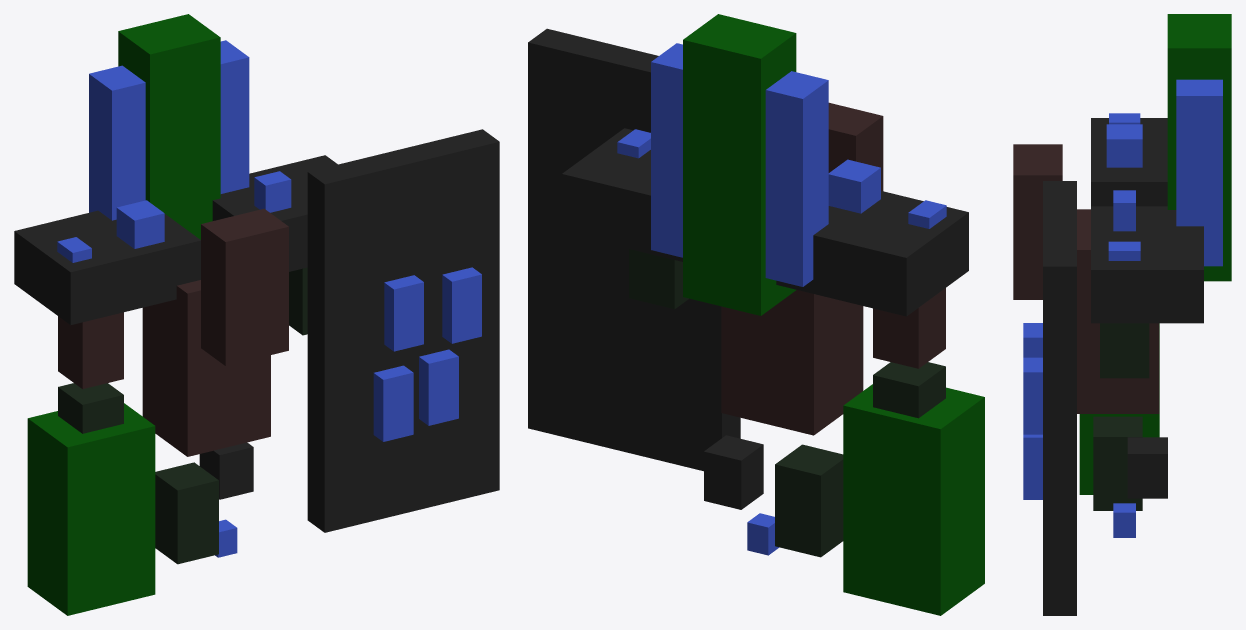
Rendered from Miniboss_V01.FBX.
3 views of the same model, side by side, from view 1: azimuth 30°, elevation 25°; view 2: azimuth 150°, elevation 25°; view 3: azimuth 270°, elevation 25° (orthographic). The views are drawn at different scales.
Parts seen in each view (by area): view 1: Shield, Fist, Backcrystal M, Body, Shoulder R, Head, Backcrystal L, Legrock 02, Backcrystal R, Bicep R, Shoulder L, ShC 02 (+9 smaller); view 2: Shield, Fist, Backcrystal M, Body, Shoulder R, Backcrystal L, Shoulder L, Legrock 02, Backcrystal R, Bicep R, Legrock 01, LowerArm R (+6 smaller); view 3: Shield, Shoulder L, Backcrystal R, Backcrystal M, Body, Head, Shoulder R, Legrock 02, Bicep L, Legrock 01, Fist, SC R02 (+7 smaller).
Part boxes in pixels (x1=…): Shield: x1=307, y1=129, x2=499, y2=532; Fist: x1=27, y1=403, x2=155, y2=615; Backcrystal M: x1=118, y1=14, x2=220, y2=239; Body: x1=142, y1=280, x2=270, y2=456; Shoulder R: x1=14, y1=210, x2=200, y2=324; Head: x1=201, y1=208, x2=288, y2=365; Backcrystal L: x1=89, y1=65, x2=145, y2=220; Legrock 02: x1=155, y1=462, x2=218, y2=564; Backcrystal R: x1=220, y1=40, x2=249, y2=193; Bicep R: x1=58, y1=312, x2=123, y2=389; Shoulder L: x1=212, y1=155, x2=337, y2=271; ShC 02: x1=373, y1=365, x2=413, y2=441; Shield: x1=528, y1=28, x2=740, y2=471; Fist: x1=843, y1=384, x2=984, y2=615; Backcrystal M: x1=683, y1=14, x2=796, y2=315; Body: x1=721, y1=290, x2=863, y2=435; Shoulder R: x1=776, y1=191, x2=968, y2=316; Backcrystal L: x1=765, y1=71, x2=828, y2=286; Shoulder L: x1=562, y1=128, x2=682, y2=261; Legrock 02: x1=775, y1=444, x2=843, y2=557; Backcrystal R: x1=651, y1=43, x2=682, y2=257; Bicep R: x1=873, y1=288, x2=945, y2=368; Legrock 01: x1=704, y1=435, x2=763, y2=509; LowerArm R: x1=873, y1=362, x2=945, y2=418; Shield: x1=1043, y1=181, x2=1076, y2=615; Shoulder L: x1=1091, y1=206, x2=1203, y2=323; Backcrystal R: x1=1176, y1=79, x2=1222, y2=266; Backcrystal M: x1=1167, y1=14, x2=1231, y2=281; Body: x1=1077, y1=209, x2=1159, y2=413; Head: x1=1013, y1=144, x2=1062, y2=299; Shoulder R: x1=1091, y1=118, x2=1167, y2=206; Legrock 02: x1=1093, y1=416, x2=1142, y2=510; Bicep L: x1=1100, y1=323, x2=1149, y2=378; Legrock 01: x1=1127, y1=437, x2=1167, y2=498; Fist: x1=1079, y1=323, x2=1159, y2=494; SC R02: x1=1106, y1=124, x2=1142, y2=167.
Size of the model in its own units: 8.39 by 3.83 by 9.66.
